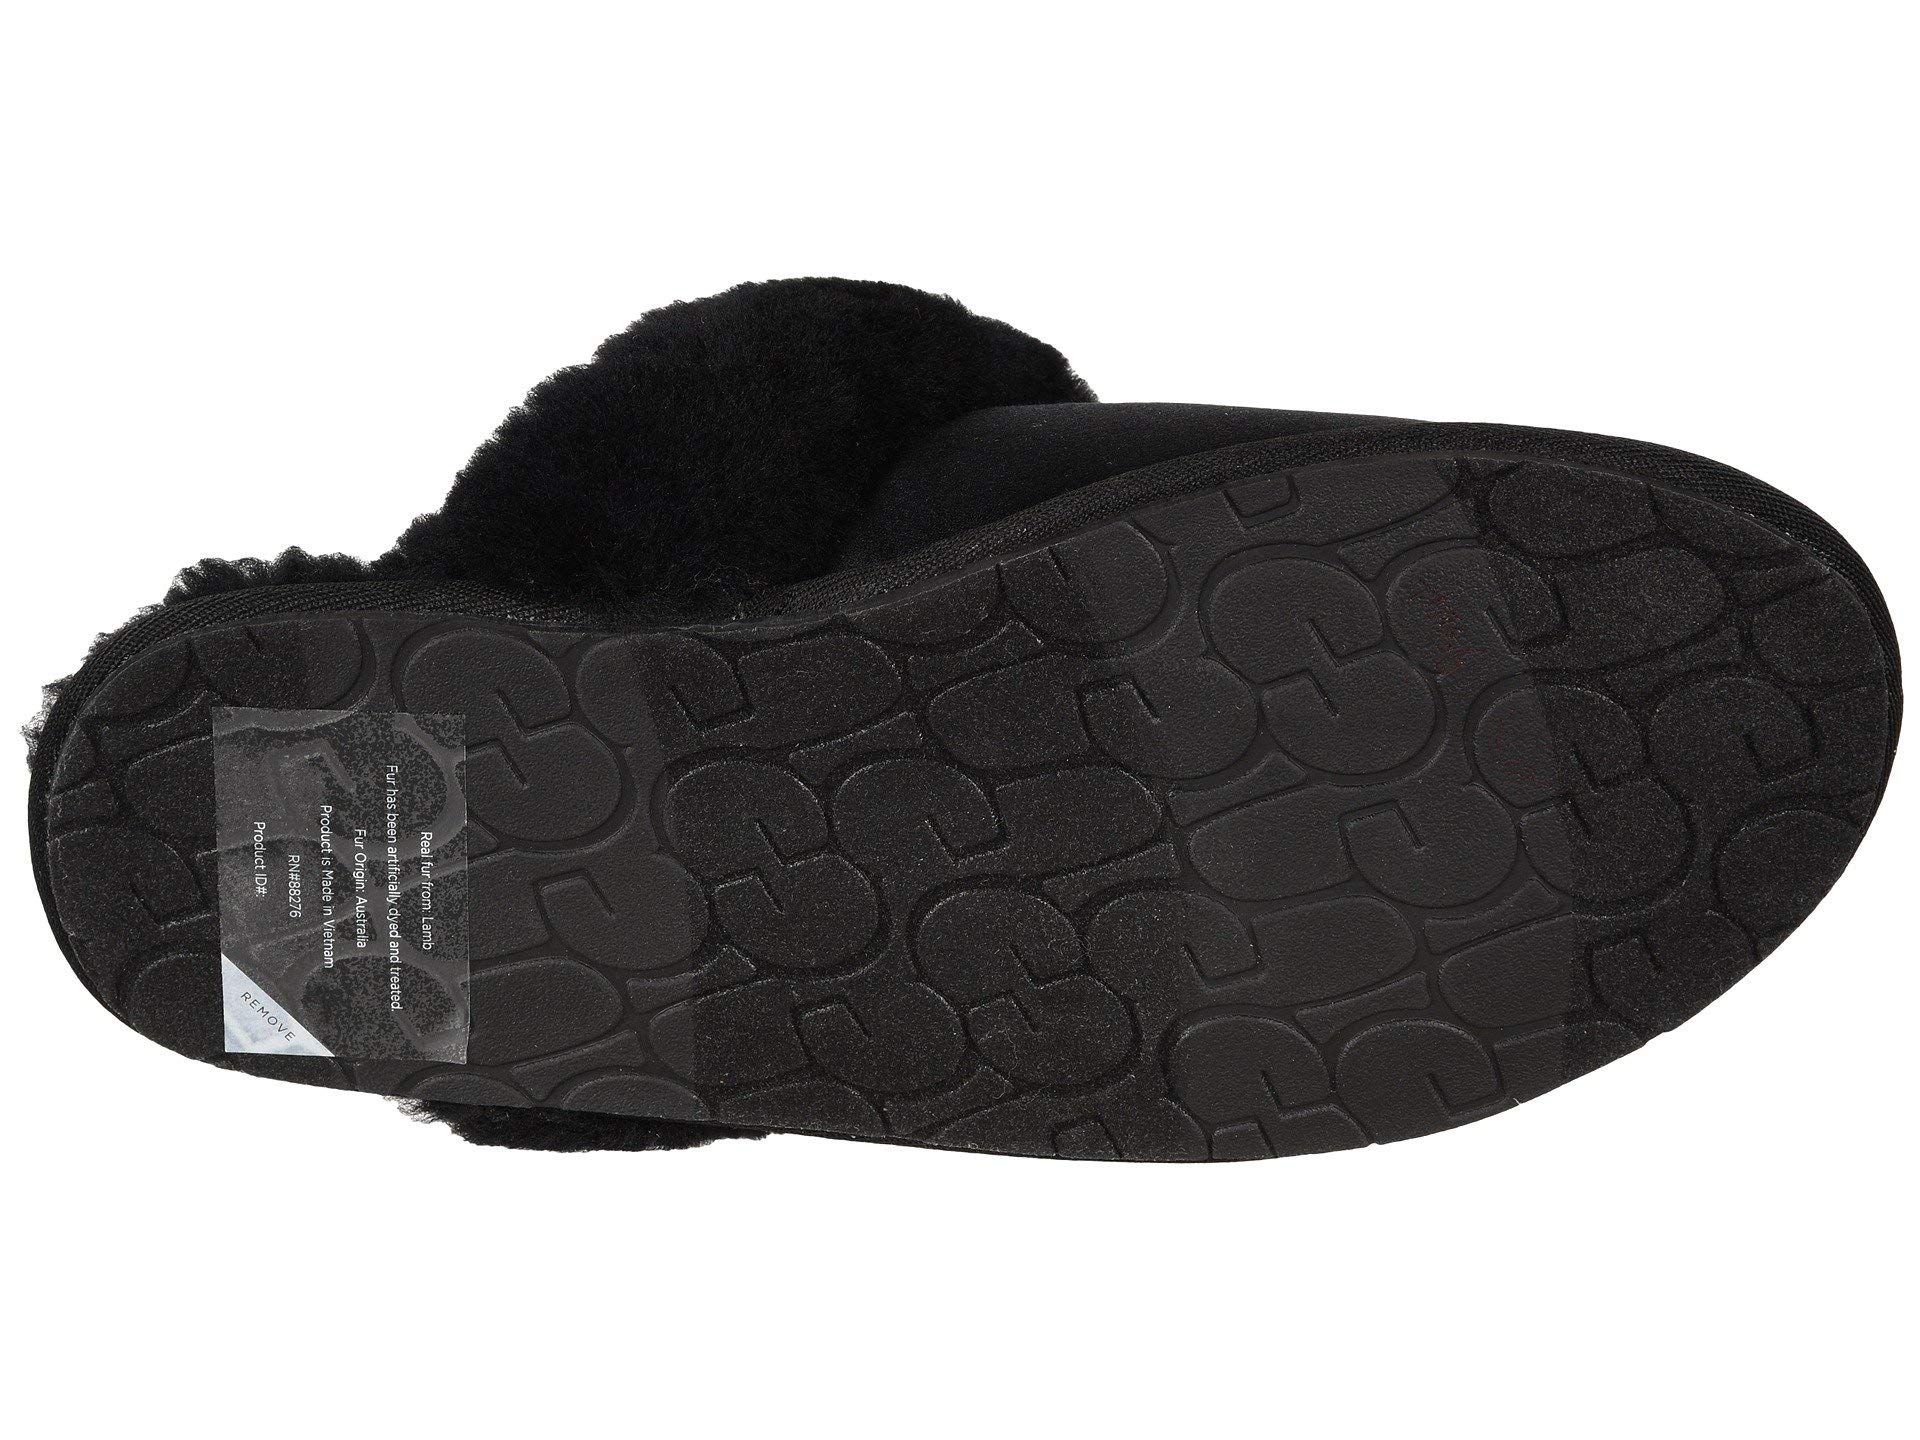exclude: (218, 705, 466, 1060)
